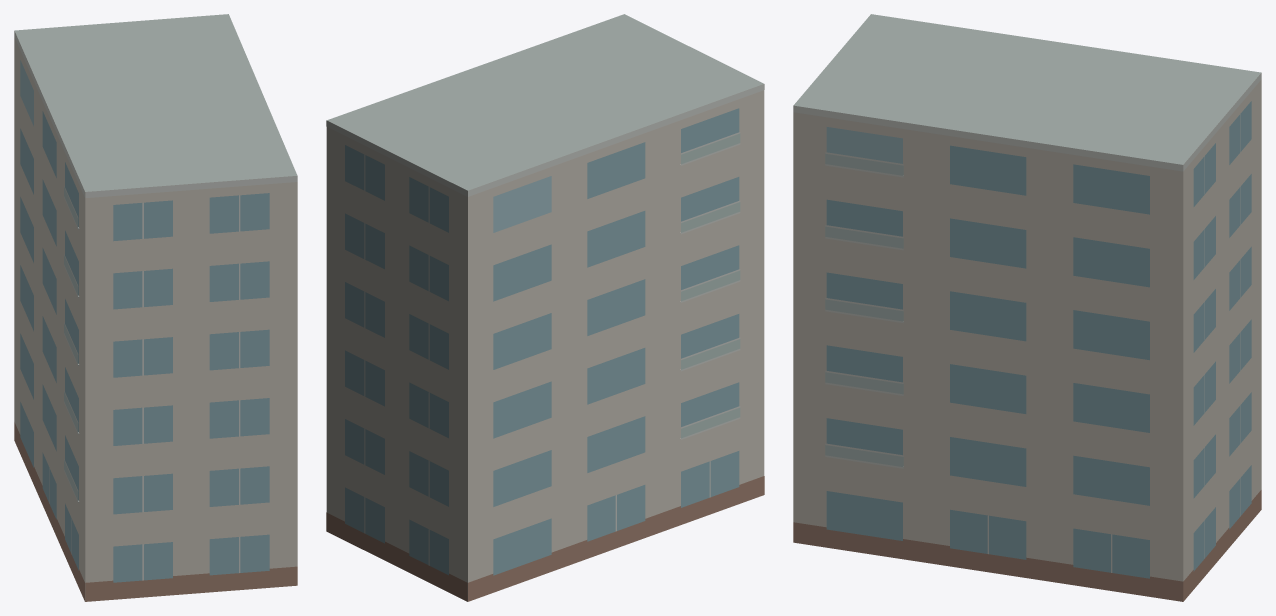
The model's file is survey-upis-32888508.glb.
3 views of the same model, side by side, from view 1: azimuth 30°, elevation 25°; view 2: azimuth 150°, elevation 25°; view 3: azimuth 270°, elevation 25° (orthographic). The views are drawn at different scales.
Visible parts, largest first — view 1: survey-upis-32888508.tmp; view 2: survey-upis-32888508.tmp; view 3: survey-upis-32888508.tmp.
Boxes of the visible parts, x1=… form: survey-upis-32888508.tmp: x1=14, y1=14, x2=297, y2=601; survey-upis-32888508.tmp: x1=326, y1=14, x2=764, y2=601; survey-upis-32888508.tmp: x1=793, y1=14, x2=1261, y2=601.
Size of the model in its own units: 11.93 by 16.1 by 15.65.
